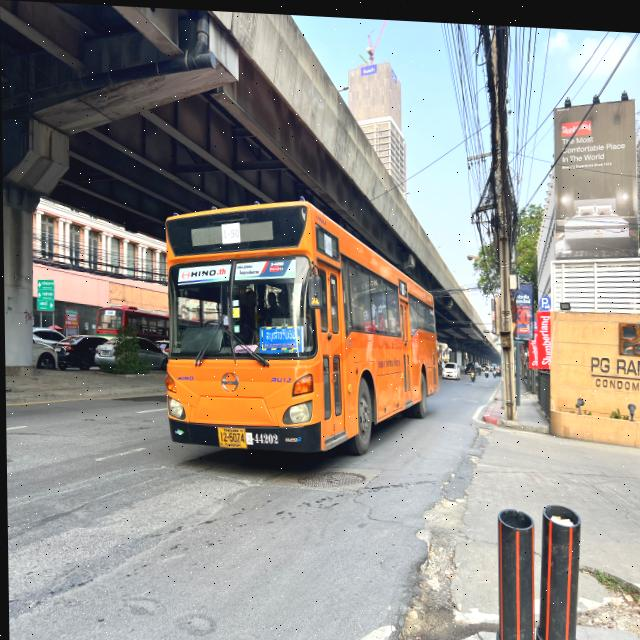BMTA-bus: (162, 192, 440, 461)
Bus-Line-Number: (221, 219, 240, 241)
Destination-Sign-Normal: (258, 321, 303, 350)
